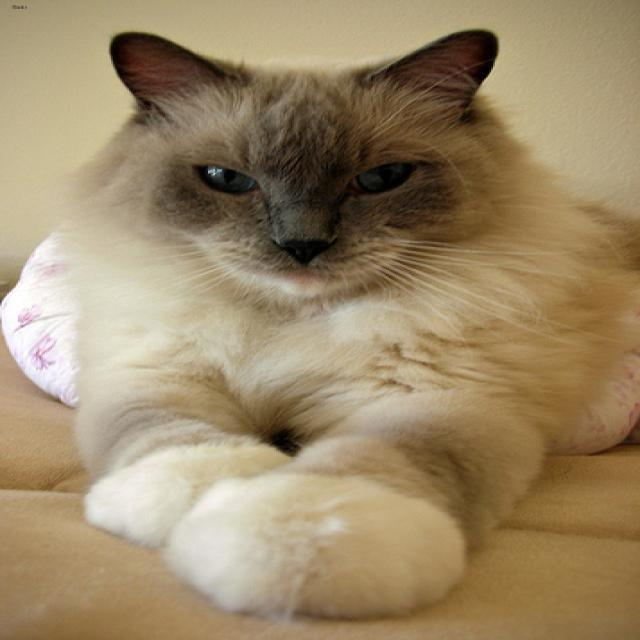Ragdoll: (97, 19, 536, 299)
